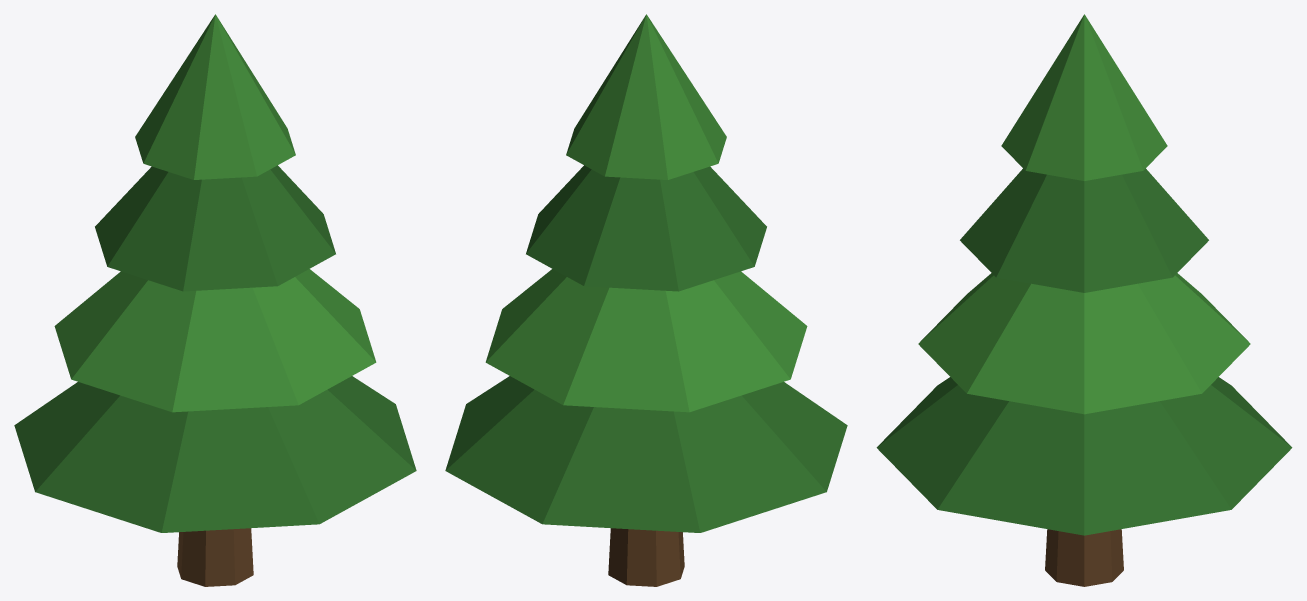
File: tree.glb
The picture shows the model from 3 angles, left to right: view 1: azimuth 30°, elevation 25°; view 2: azimuth 150°, elevation 25°; view 3: azimuth 270°, elevation 25°; orthographic projection.
Visible parts, largest first — view 1: Tier.0, Tier.1, Tier.2, Tier.3, Trunk; view 2: Tier.0, Tier.1, Tier.2, Tier.3, Trunk; view 3: Tier.0, Tier.1, Tier.2, Tier.3, Trunk.
Boxes of the visible parts, bbox=[...] form: Tier.0: bbox=[14, 376, 416, 532]; Tier.1: bbox=[54, 269, 376, 412]; Tier.2: bbox=[95, 165, 335, 291]; Tier.3: bbox=[135, 14, 295, 179]; Trunk: bbox=[177, 528, 253, 586]; Tier.0: bbox=[445, 376, 847, 532]; Tier.1: bbox=[485, 269, 807, 412]; Tier.2: bbox=[526, 165, 766, 291]; Tier.3: bbox=[566, 14, 726, 179]; Trunk: bbox=[608, 528, 684, 586]; Tier.0: bbox=[876, 377, 1292, 535]; Tier.1: bbox=[918, 273, 1250, 414]; Tier.2: bbox=[960, 168, 1208, 292]; Tier.3: bbox=[1001, 14, 1167, 180]; Trunk: bbox=[1045, 529, 1123, 586].
Bounding box in the file's own units: 4 × 5.9 × 4.
